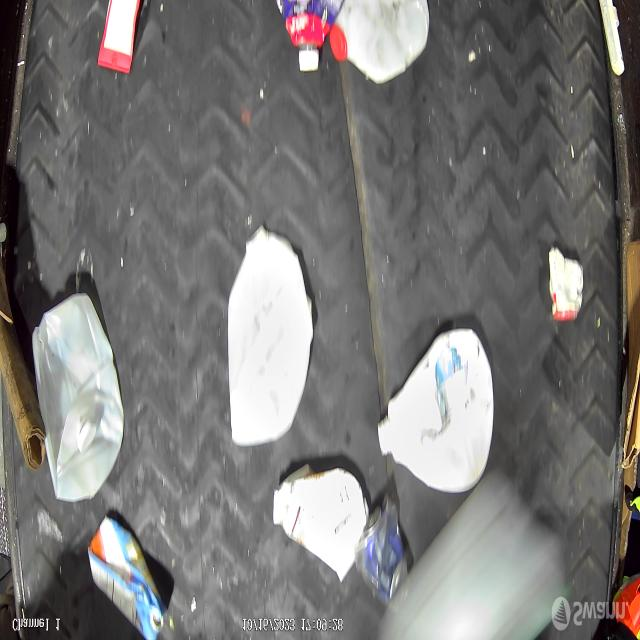can: (358, 511, 411, 596), (546, 248, 584, 328)
milk_jug: (222, 218, 318, 455), (372, 334, 496, 496), (33, 296, 122, 504), (331, 0, 428, 83)
non_white_jug: (92, 532, 166, 640)
